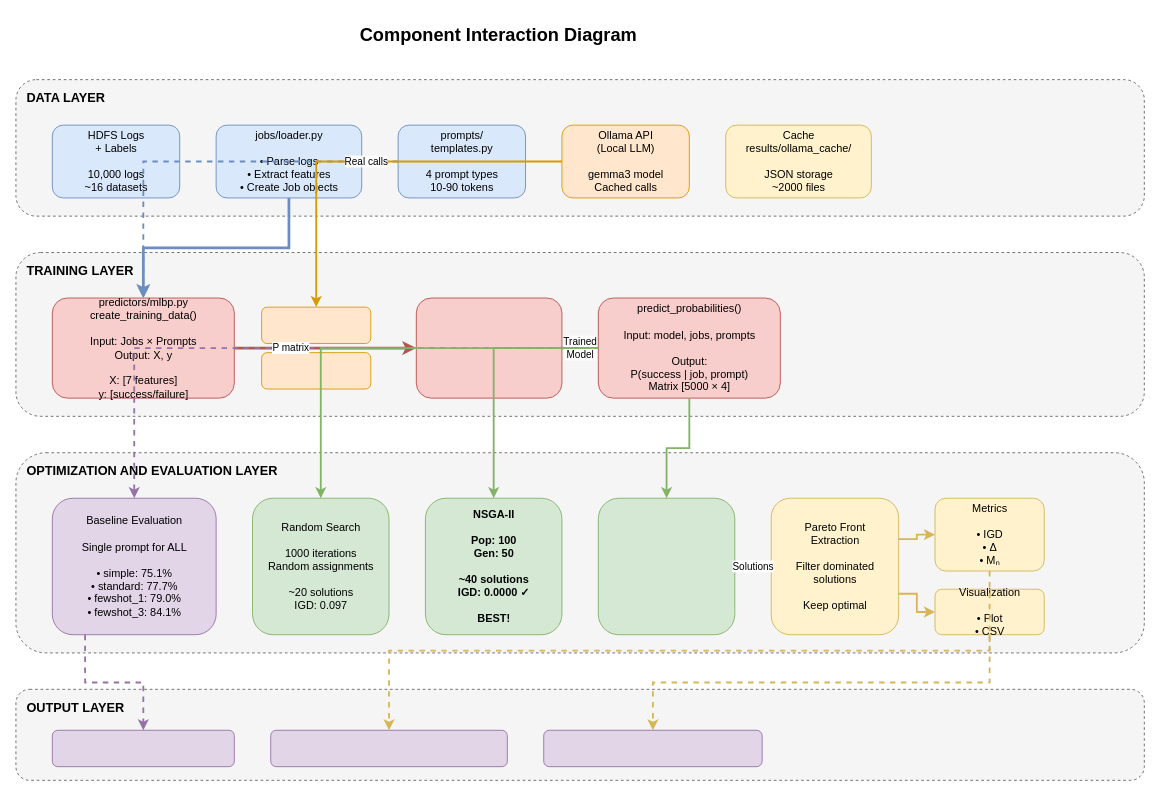
Some shapes in this 1160 by 796 pixel diagram are drawn without their labels. Each missing label, with the box of its shape:
5% Real LLM: (261, 306, 371, 344)
95% Heuristic: (261, 352, 371, 389)
figures/ pareto_with_baselines.png: (543, 729, 762, 767)
SPEA2 Archive-based Fitness sharing ~12 solutions IGD: 0.231: (597, 497, 735, 635)
tables/ baseline_results.csv: (51, 729, 234, 767)
tables/ table3_optimizer_comparison.csv: (270, 729, 507, 767)
train_predictor() XGBoost: • 400 estimators • depth=8 • lr=0.05 Accuracy: 79%: (415, 297, 562, 398)
